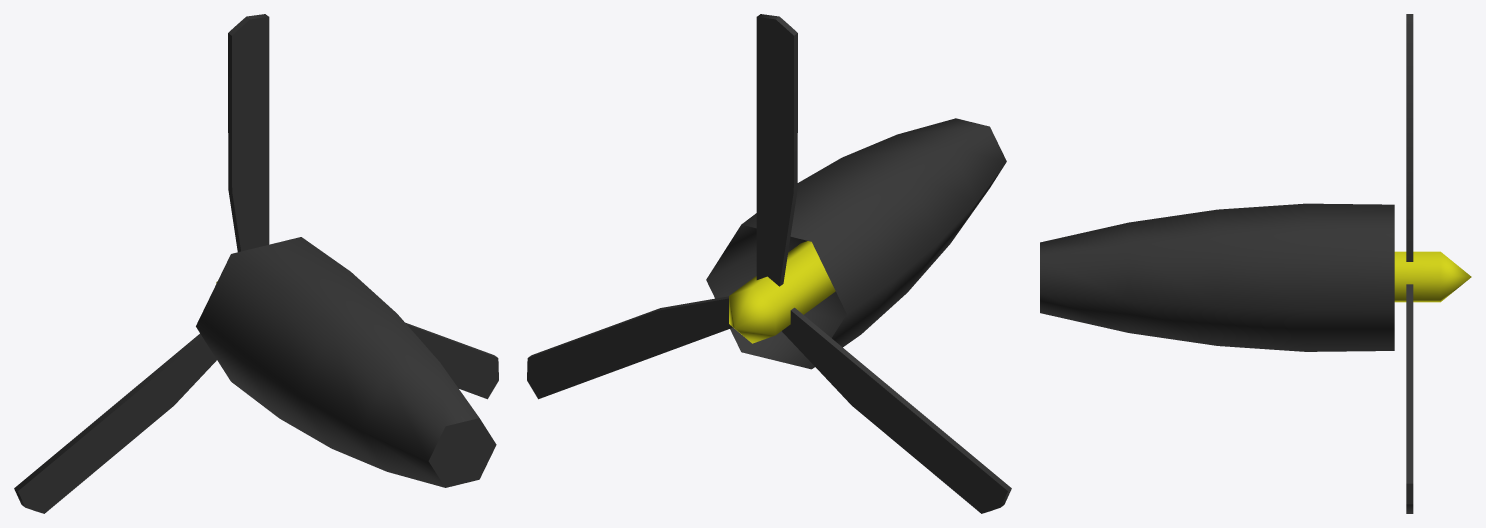
The model's file is turbine.FBX.
3 views of the same model, side by side, from view 1: azimuth 30°, elevation 25°; view 2: azimuth 150°, elevation 25°; view 3: azimuth 270°, elevation 25° (orthographic). The views are drawn at different scales.
Parts seen in each view (by area): view 1: turbine, pale, pale002, pale001; view 2: turbine, pale002, pale, pale001, axeRotor; view 3: turbine, axeRotor, pale, pale001.
Boxes of the visible parts, x1,y1,x2,y2 form: turbine: (196,237,496,487); pale: (228,14,269,252); pale002: (14,333,216,513); pale001: (405,322,498,399); turbine: (706,118,1006,369); pale002: (782,307,1011,513); pale: (756,14,797,286); pale001: (527,296,732,399); axeRotor: (729,241,835,343); turbine: (1040,203,1394,351); axeRotor: (1394,251,1471,302); pale: (1406,14,1413,261); pale001: (1406,284,1413,513).
Bounding box in the file's own units: 7.07 × 6.24 × 6.09.
